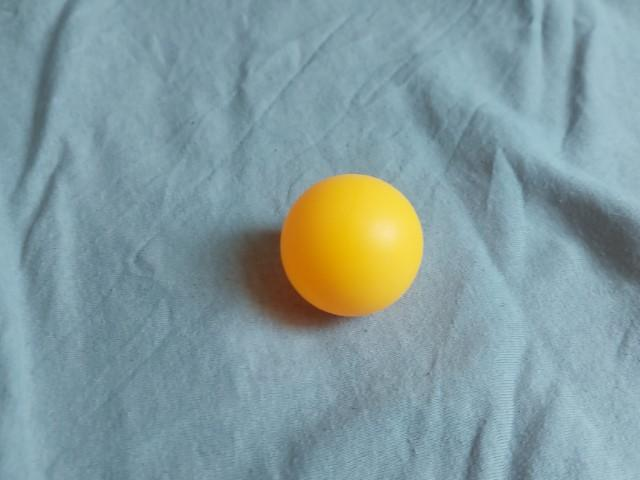oball: (273, 167, 434, 321)
